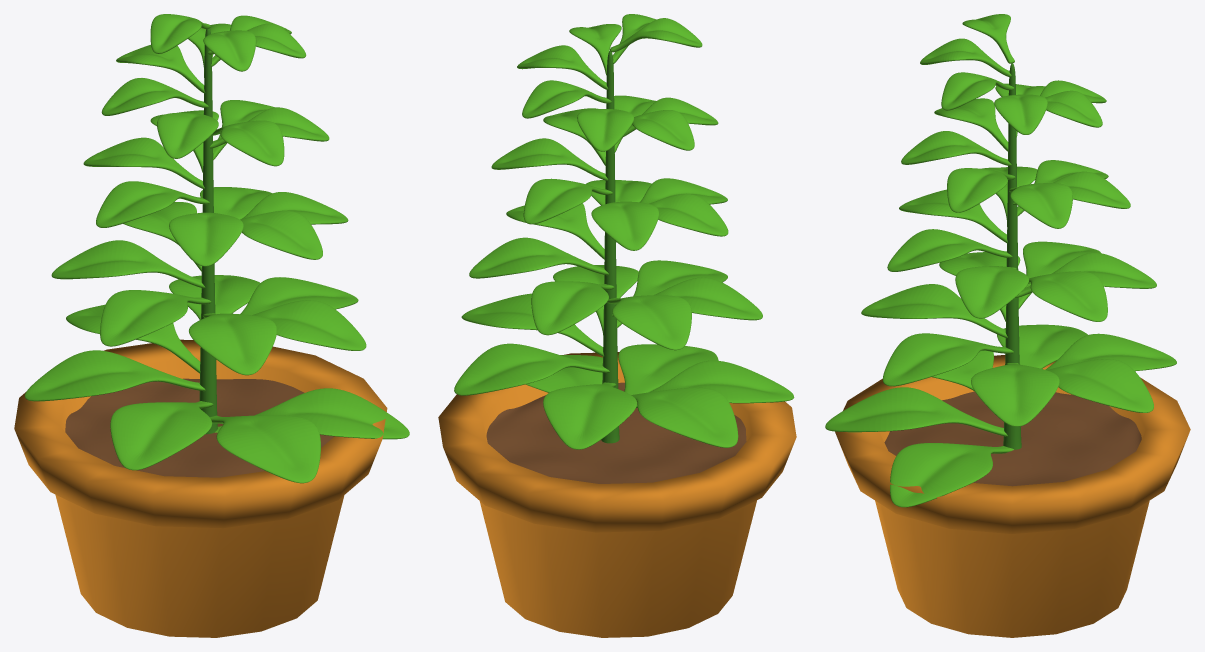
Rendered from Holybasil.fbx.
3 renders of one model, left to right at view 1: azimuth 30°, elevation 25°; view 2: azimuth 150°, elevation 25°; view 3: azimuth 270°, elevation 25°, orthographic. The views are drawn at different scales.
Visible parts, largest first — view 1: Circle.002, Plane.010, Circle.003; view 2: Circle.002, Plane.010, Circle.003; view 3: Circle.002, Plane.010, Circle.003.
Boxes of the visible parts, x1,y1,x2,y2 form: Circle.002: (24,14,409,483); Plane.010: (14,339,387,637); Circle.003: (65,378,334,477); Circle.002: (454,14,794,449); Plane.010: (438,352,796,637); Circle.003: (486,382,746,483); Circle.002: (825,14,1176,507); Plane.010: (835,355,1190,637); Circle.003: (884,391,1141,486).
Size of the model in its own units: 22.67 by 38.85 by 23.23.
